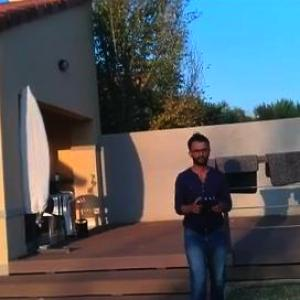follow: (169, 125, 238, 299)
